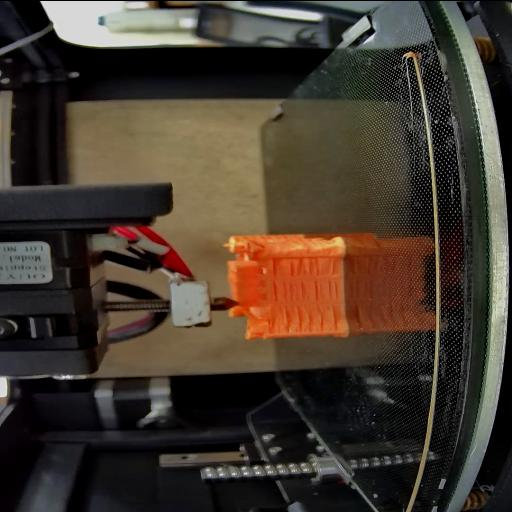cracks: (274, 304, 340, 332), (276, 276, 338, 300), (273, 257, 337, 276)
